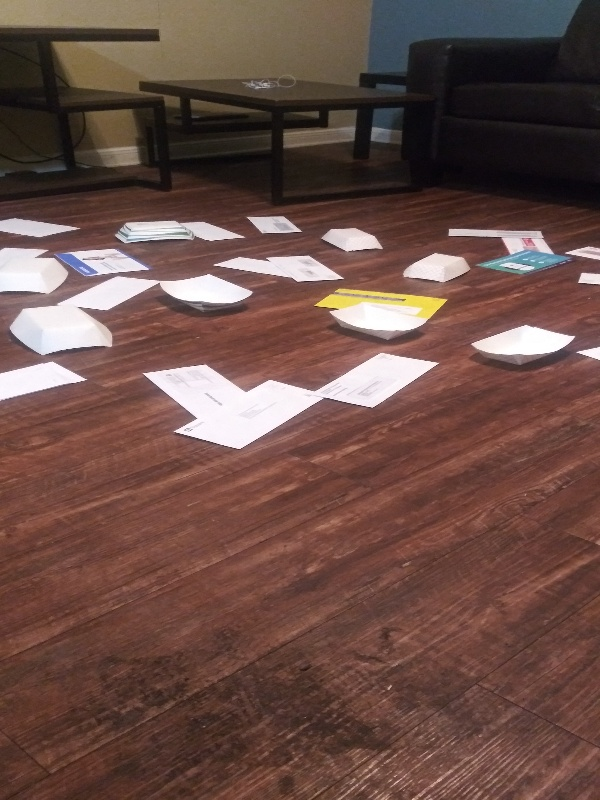plate: (6, 300, 118, 358), (468, 321, 578, 369), (155, 273, 257, 318), (327, 299, 431, 342), (1, 257, 75, 299), (397, 251, 473, 287), (110, 217, 198, 248), (316, 227, 386, 255)
